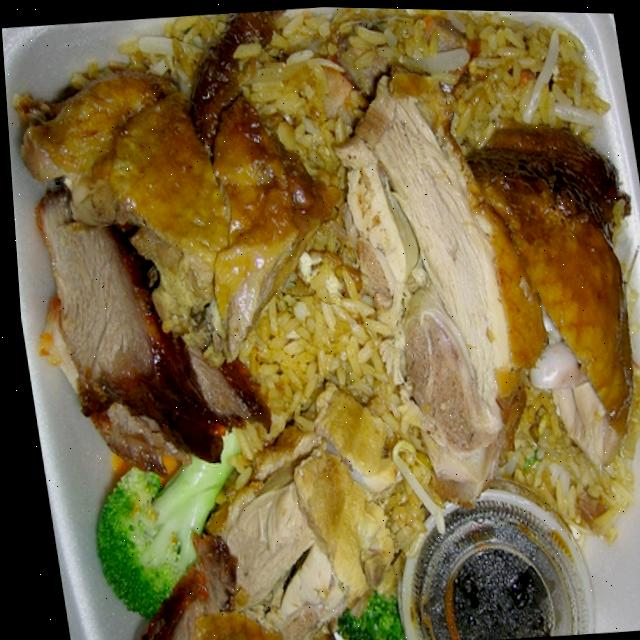烧串烤肉: (14, 0, 640, 640)
